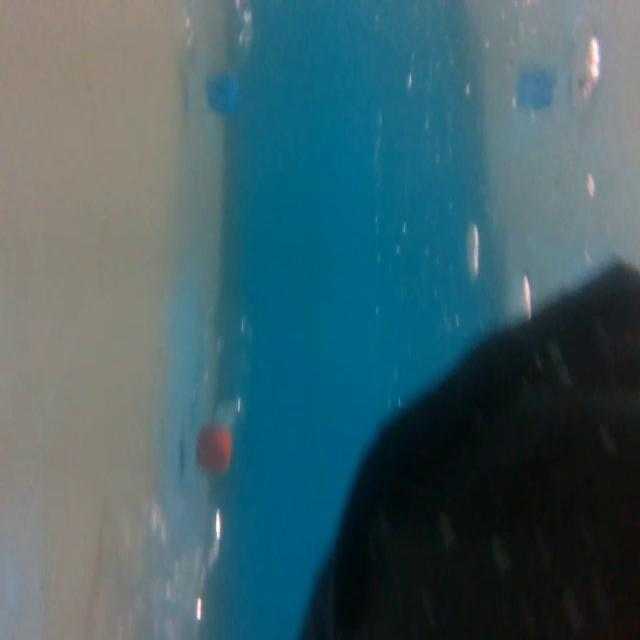plastic bags: (300, 228, 639, 640)
plastic bottle: (175, 273, 266, 475), (119, 505, 227, 640), (171, 0, 266, 125)
